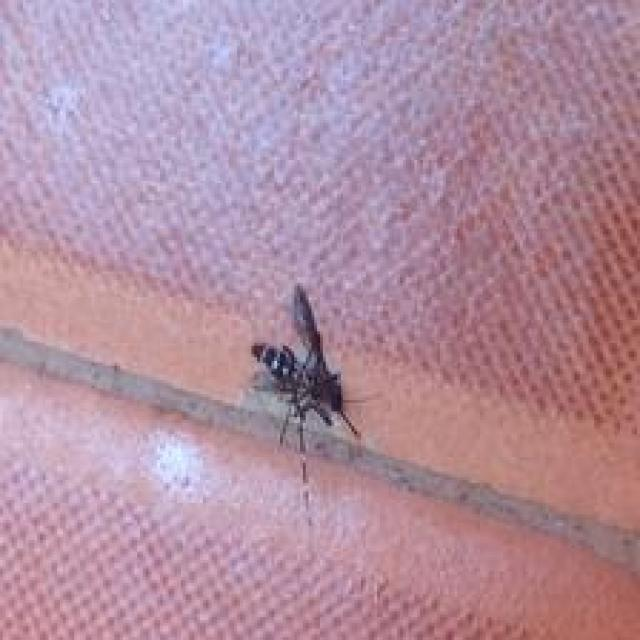Aedes albopictus: (247, 283, 373, 520)
